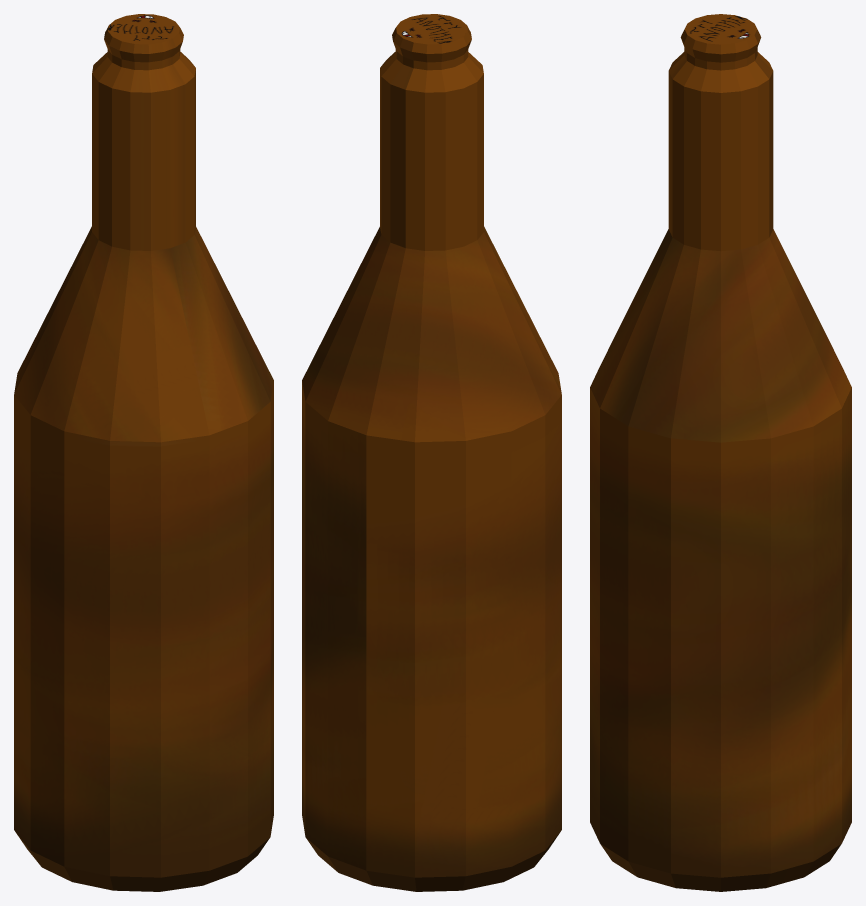
File: bottle.glb
The picture shows the model from 3 angles, left to right: view 1: azimuth 30°, elevation 25°; view 2: azimuth 150°, elevation 25°; view 3: azimuth 270°, elevation 25°; orthographic projection.
Parts seen in each view (by area): view 1: Cylinder; view 2: Cylinder; view 3: Cylinder.
Part boxes in pixels (x1,y1,x2,y2): Cylinder: (14, 14, 273, 891); Cylinder: (302, 14, 561, 891); Cylinder: (590, 14, 851, 891).
Bounding box in the file's own units: 1.2 × 4.11 × 1.2.
1 material, 1 textured.
